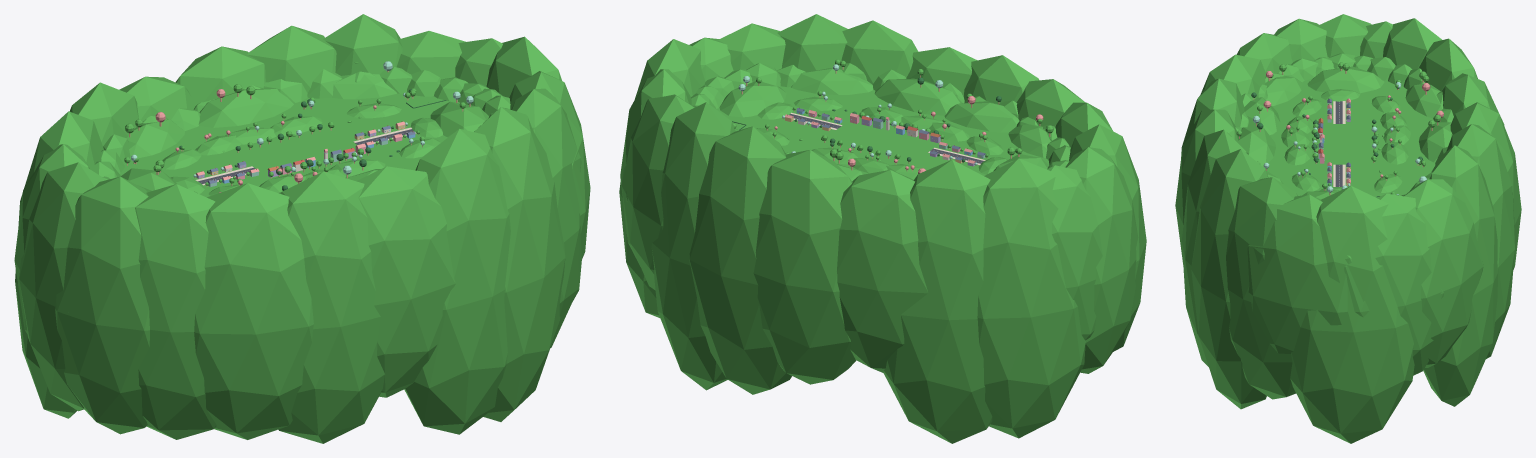
Rendered from CleanACat_Area_Backdrop.fbx.
The picture shows the model from 3 angles, left to right: view 1: azimuth 30°, elevation 25°; view 2: azimuth 150°, elevation 25°; view 3: azimuth 270°, elevation 25°; orthographic projection. The views are drawn at different scales.
Parts seen in each view (by area): view 1: CleanACat_Area_Backdrop_Peaks, CleanACat_Area_Backdrop_HillsFar, CleanACat_Area_Backdrop_Ground, CleanACat_Area_Backdrop_Hills, CleanACat_Area_Backdrop; view 2: CleanACat_Area_Backdrop_Peaks, CleanACat_Area_Backdrop_HillsFar, CleanACat_Area_Backdrop_Ground, CleanACat_Area_Backdrop, CleanACat_Area_Backdrop_Hills; view 3: CleanACat_Area_Backdrop_Peaks, CleanACat_Area_Backdrop_Ground, CleanACat_Area_Backdrop_HillsFar, CleanACat_Area_Backdrop_Hills, CleanACat_Area_Backdrop.
Boxes of the visible parts, x1,y1,x2,y2 form: CleanACat_Area_Backdrop_Peaks: [14, 14, 590, 443]; CleanACat_Area_Backdrop_HillsFar: [91, 67, 510, 193]; CleanACat_Area_Backdrop_Ground: [119, 93, 460, 197]; CleanACat_Area_Backdrop_Hills: [162, 103, 442, 195]; CleanACat_Area_Backdrop: [124, 61, 473, 193]; CleanACat_Area_Backdrop_Peaks: [619, 14, 1146, 443]; CleanACat_Area_Backdrop_HillsFar: [691, 63, 1070, 181]; CleanACat_Area_Backdrop_Ground: [716, 86, 1049, 175]; CleanACat_Area_Backdrop: [732, 59, 1053, 173]; CleanACat_Area_Backdrop_Hills: [756, 96, 1007, 179]; CleanACat_Area_Backdrop_Peaks: [1175, 14, 1521, 443]; CleanACat_Area_Backdrop_Ground: [1263, 78, 1435, 197]; CleanACat_Area_Backdrop_HillsFar: [1235, 53, 1453, 199]; CleanACat_Area_Backdrop_Hills: [1281, 89, 1410, 192]; CleanACat_Area_Backdrop: [1236, 62, 1443, 197].
Bounding box in the file's own units: 1493 × 839 × 1006.
Materials: 1 (1 with a texture image).
